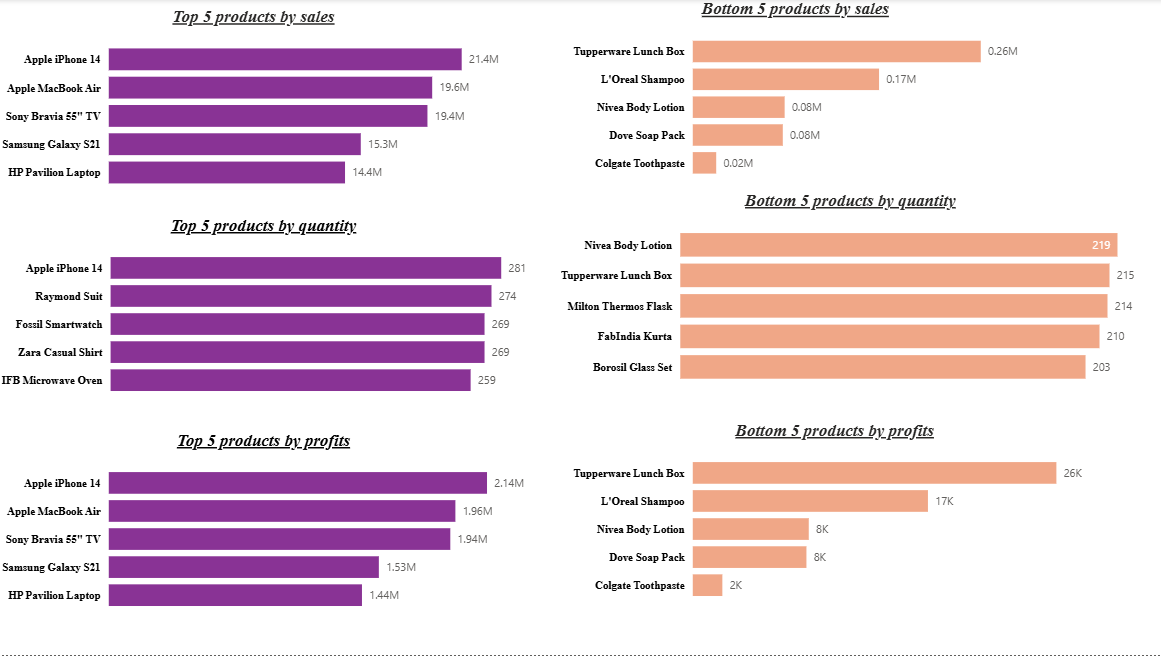

This screenshot's page, from the dashboard's own definition file:
{"tool":"powerbi","page":{"name":"top/bottom analysis","canvas":[1280,720],"ordinal":1},"visuals":[{"type":"barChart","title":"Top 5 products by sales","fields":{"Category":["Dim Product.Product Name"],"Y":["Sum(fact table.Net sales.1)"]},"box":[0,8.2,565.4,212.7],"z":0},{"type":"barChart","title":"Bottom 5 products by sales","fields":{"Category":["Dim Product.Product Name"],"Y":["Sum(fact table.Net sales.1)"]},"box":[627.1,0,500.9,209.9],"z":1000},{"type":"barChart","title":"Top 5 products by quantity","fields":{"Category":["Dim Product.Product Name"],"Y":["Sum(fact table.Units Sold)"]},"box":[0,237.4,587.3,211.3],"z":2000},{"type":"barChart","title":"Bottom 5 products by quantity","fields":{"Category":["Dim Product.Product Name"],"Y":["Sum(fact table.Units Sold)"]},"box":[613.4,209.9,649.1,226.4],"z":3000},{"type":"barChart","title":"Top 5 products by profits","fields":{"Category":["Dim Product.Product Name"],"Y":["Sum(fact table.profit)"]},"box":[0,473.4,587.3,211.3],"z":4000},{"type":"barChart","title":"Bottom 5 products by profits","fields":{"Category":["Dim Product.Product Name"],"Y":["Sum(fact table.profit)"]},"box":[627.1,462.4,587.3,211.3],"z":5000}]}

Visuals, with their boxes in screenshot pixels (x1, y1, x2, y2), scaled from the page's 1280x720 canvas onto the 1161x657 screenshot:
"Top 5 products by sales" barChart: locate(0, 7, 513, 202)
"Bottom 5 products by sales" barChart: locate(569, 0, 1023, 192)
"Top 5 products by quantity" barChart: locate(0, 217, 533, 409)
"Bottom 5 products by quantity" barChart: locate(556, 192, 1145, 398)
"Top 5 products by profits" barChart: locate(0, 432, 533, 625)
"Bottom 5 products by profits" barChart: locate(569, 422, 1101, 615)
